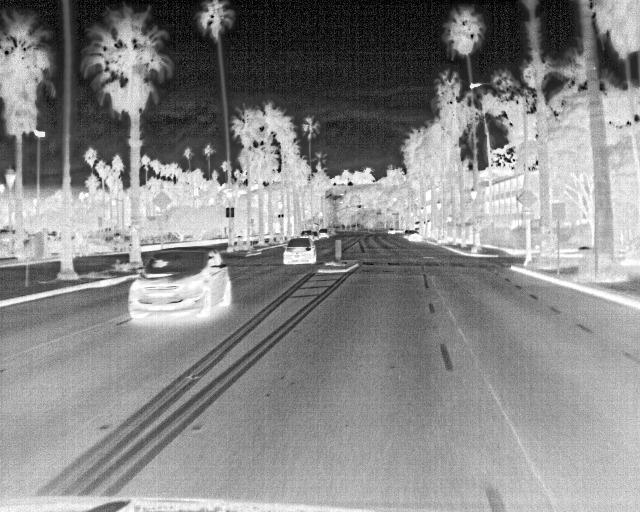car: (128, 246, 230, 323), (283, 237, 319, 265), (300, 228, 317, 242), (316, 227, 332, 240), (406, 231, 422, 243), (403, 228, 419, 240)
